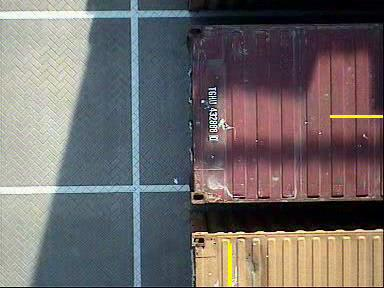groundmarker_2: (97, 69, 164, 117), (97, 225, 164, 273)
